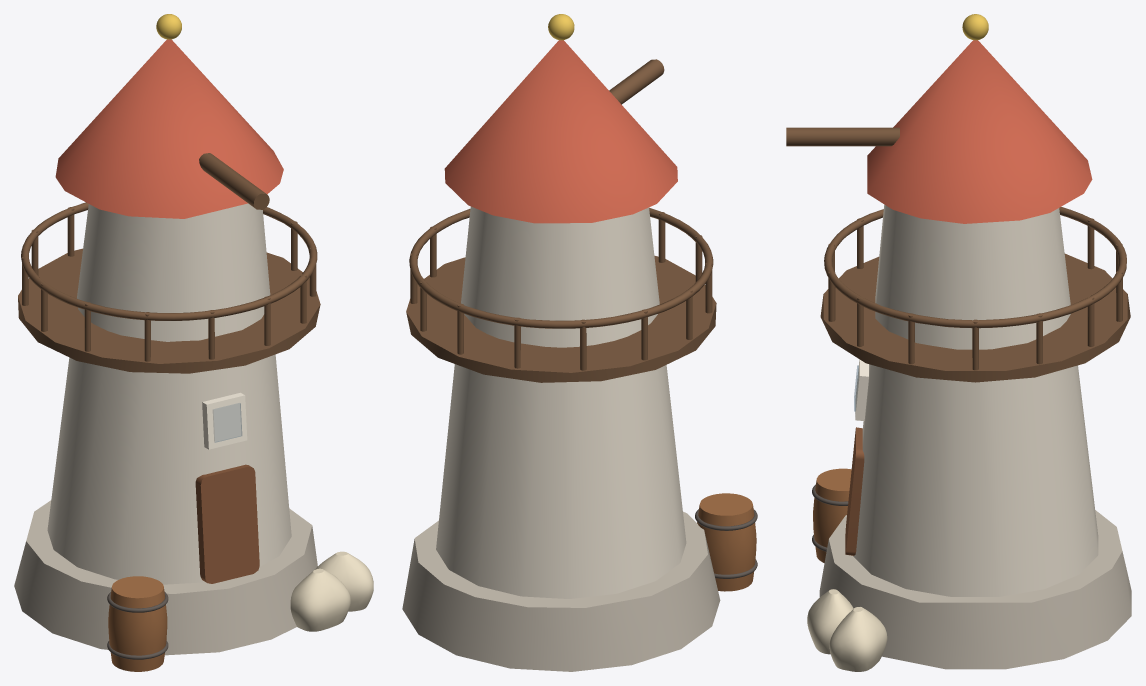
The model's file is windmill.glb.
3 views of the same model, side by side, from view 1: azimuth 30°, elevation 25°; view 2: azimuth 150°, elevation 25°; view 3: azimuth 270°, elevation 25° (orthographic). The views are drawn at different scales.
Parts seen in each view (by area): view 1: tower, cap, base, deck, door, barrel, rail, sack, window_frame, sack.001, shaft, pane (+1 smaller); view 2: tower, cap, base, deck, rail, barrel, shaft, finial; view 3: tower, cap, base, deck, rail, sack.001, shaft, barrel, sack, door, window_frame, finial.
Part boxes in pixels (<box>): tower: <box>47,203,291,584</box>; cap: <box>55,39,283,218</box>; base: <box>14,500,317,655</box>; deck: <box>18,248,320,373</box>; door: <box>195,464,259,583</box>; barrel: <box>108,576,167,671</box>; rail: <box>21,202,317,320</box>; sack: <box>290,568,350,631</box>; window_frame: <box>202,392,247,449</box>; sack.001: <box>315,551,373,611</box>; shaft: <box>199,153,269,209</box>; pane: <box>213,403,241,442</box>; tower: <box>436,206,686,598</box>; cap: <box>444,40,677,223</box>; base: <box>402,511,720,671</box>; deck: <box>406,255,716,382</box>; rail: <box>409,207,713,328</box>; barrel: <box>697,493,756,591</box>; shaft: <box>609,59,664,104</box>; finial: <box>548,14,574,40</box>; tower: <box>853,204,1098,596</box>; cap: <box>867,40,1092,223</box>; base: <box>819,510,1131,669</box>; deck: <box>820,253,1130,382</box>; rail: <box>824,207,1126,328</box>; sack.001: <box>829,607,887,671</box>; shaft: <box>786,127,899,146</box>; barrel: <box>813,468,851,562</box>; sack: <box>807,589,853,654</box>; door: <box>845,427,864,555</box>; window_frame: <box>855,359,868,420</box>; finial: <box>962,14,988,40</box>.
Bounding box in the file's own units: 1.72 × 3.43 × 1.82.
